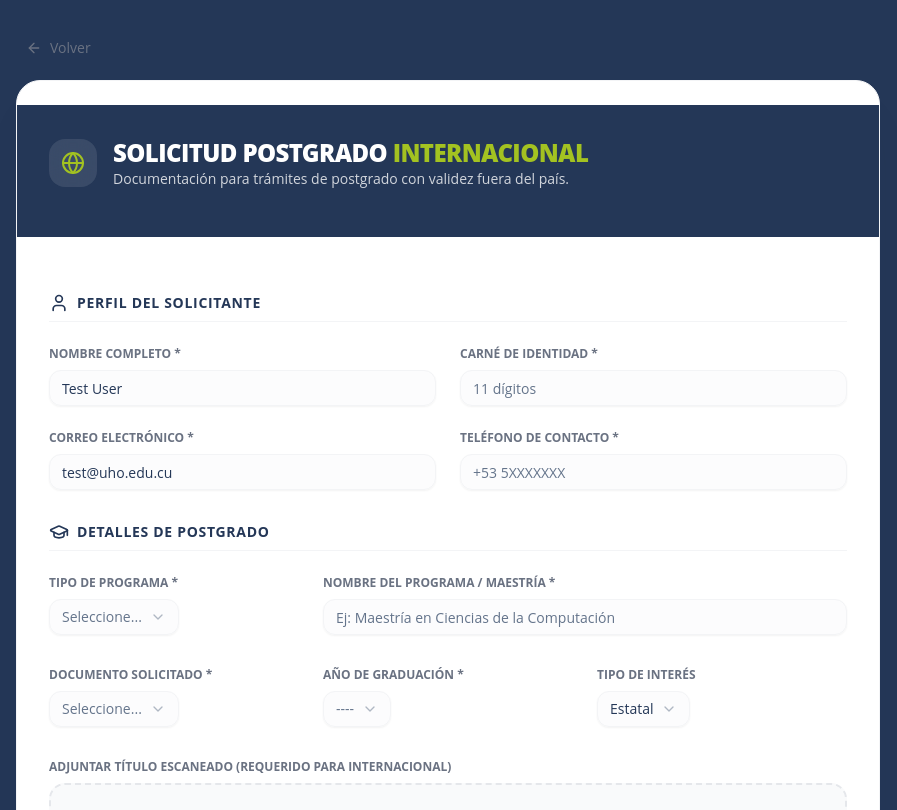
Test case: PostInterProcedure validación común › exige carrera/programa
This screenshot has width=897, height=810.
In the field labelled "Carné de Identidad *": {"x": 654, "y": 388} [460, 370, 847, 406], type "02050512345"
(page scrolled)
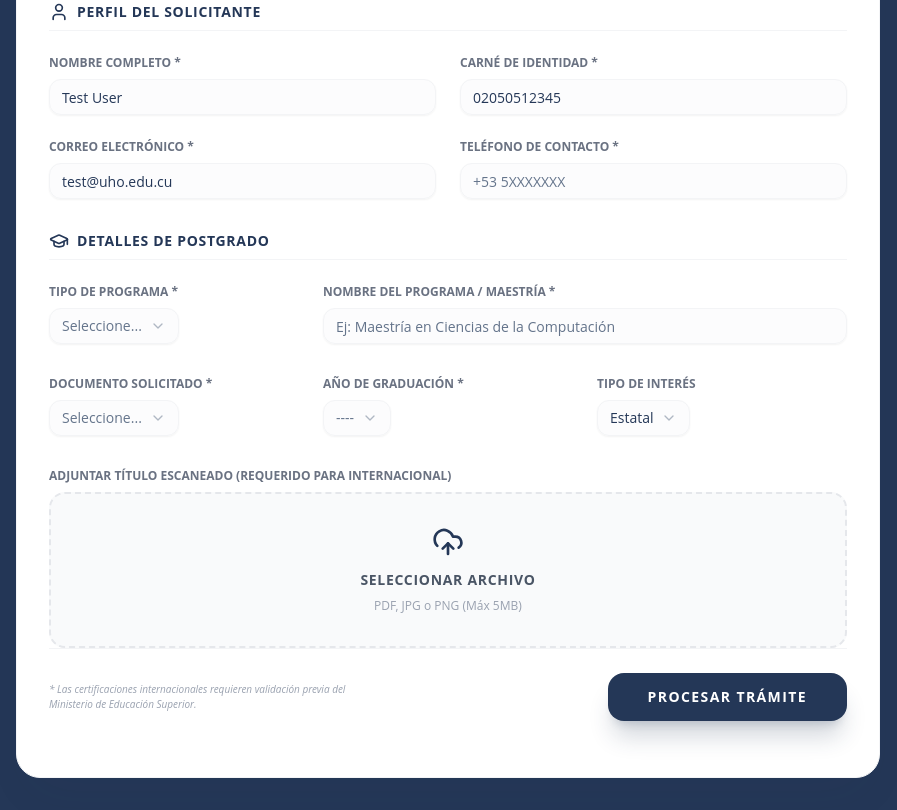
// No tocar el campo de carrera/programa
Click the button "Procesar Trámite": {"x": 727, "y": 697} [608, 673, 847, 721]
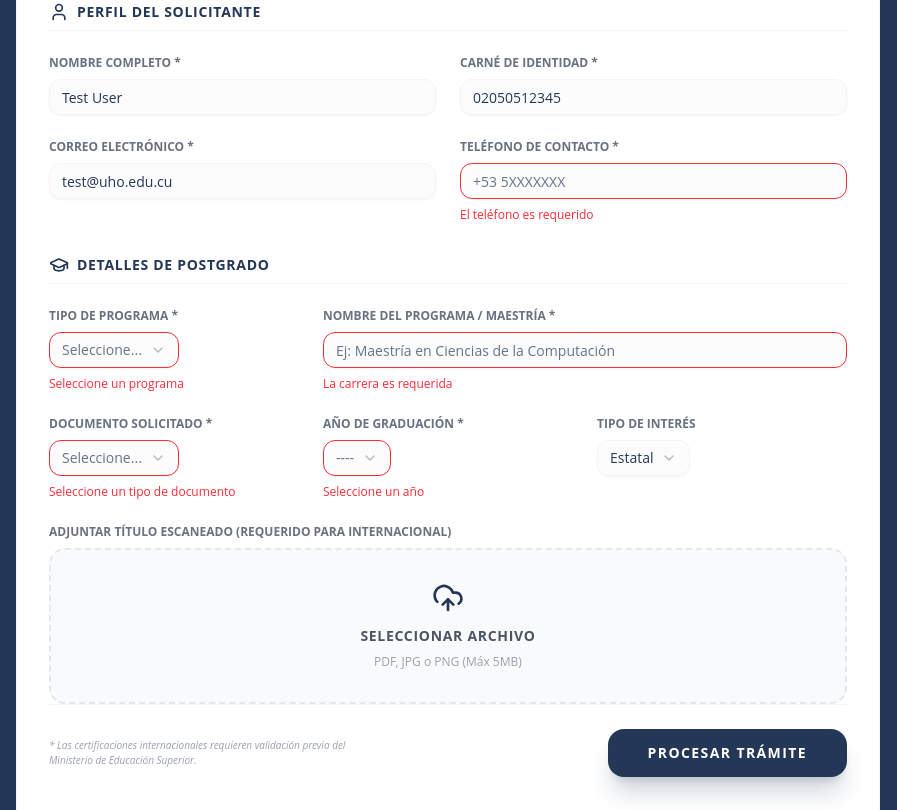
Expected: the text "La carrera es requerida" is shown, [323, 375, 452, 392]
